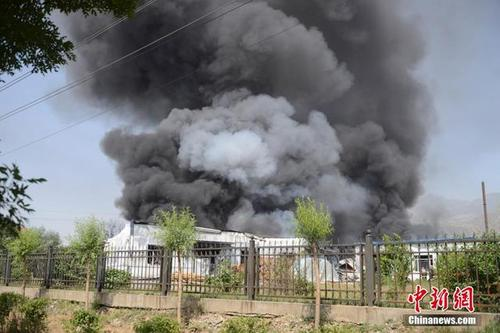smoke: (85, 10, 424, 222)
